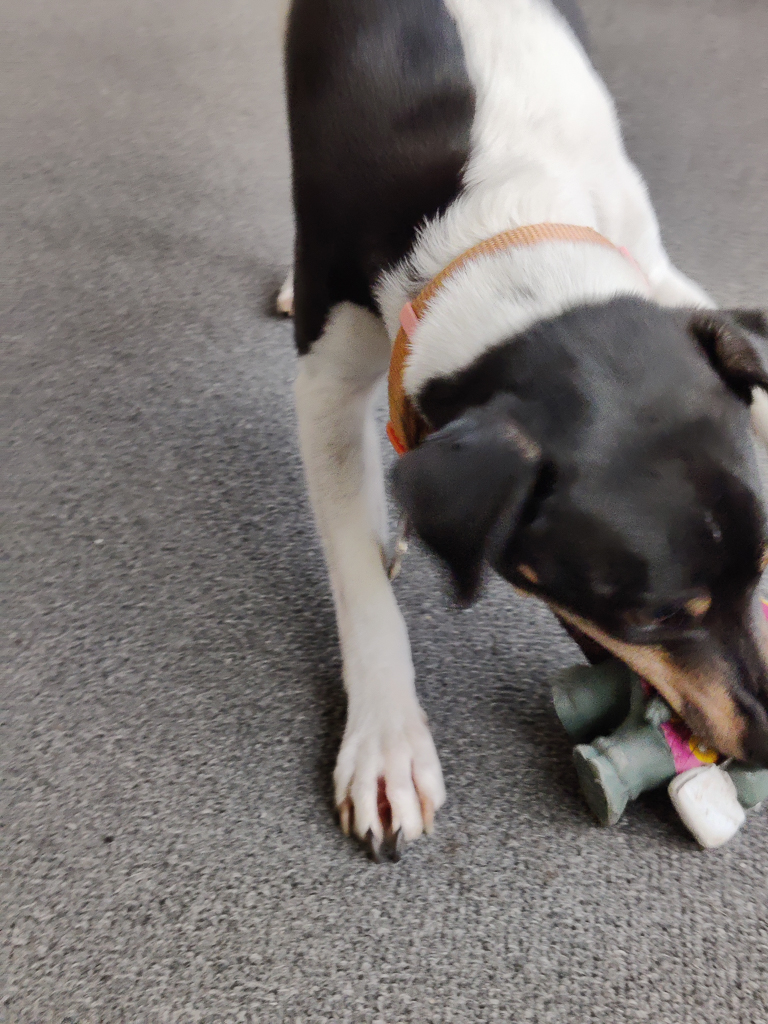Dog: (226, 0, 768, 886)
Humanoid: (512, 626, 768, 866)
